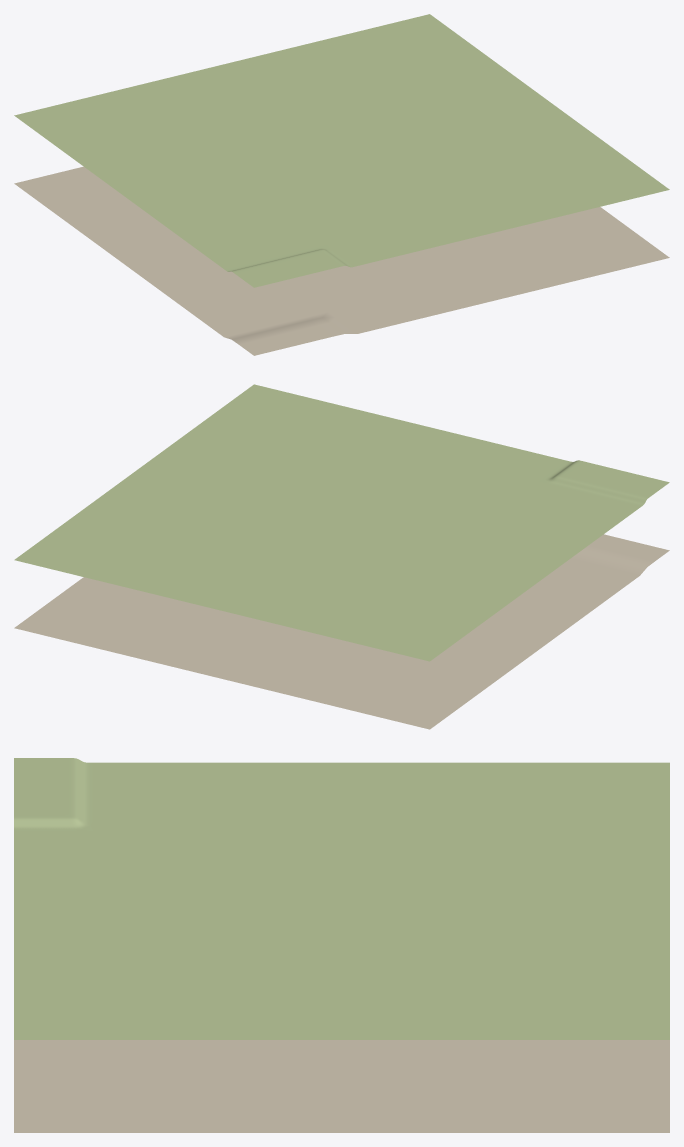
The picture shows the model from 3 angles, top to bottom: view 1: azimuth 30°, elevation 25°; view 2: azimuth 150°, elevation 25°; view 3: azimuth 270°, elevation 25°; orthographic projection. The views are drawn at different scales.
Visible parts, largest first — view 1: s_2_-6__grass, s_2_-6__soil; view 2: s_2_-6__grass, s_2_-6__soil; view 3: s_2_-6__grass, s_2_-6__soil.
Part boxes in pixels (x1,y1,x2,y2): s_2_-6__grass: [14, 14, 669, 287]; s_2_-6__soil: [14, 166, 669, 355]; s_2_-6__grass: [14, 384, 669, 661]; s_2_-6__soil: [14, 534, 669, 729]; s_2_-6__grass: [14, 758, 669, 1039]; s_2_-6__soil: [14, 1040, 669, 1132].
Bounding box in the file's own units: 128 × 21.01 × 128.
